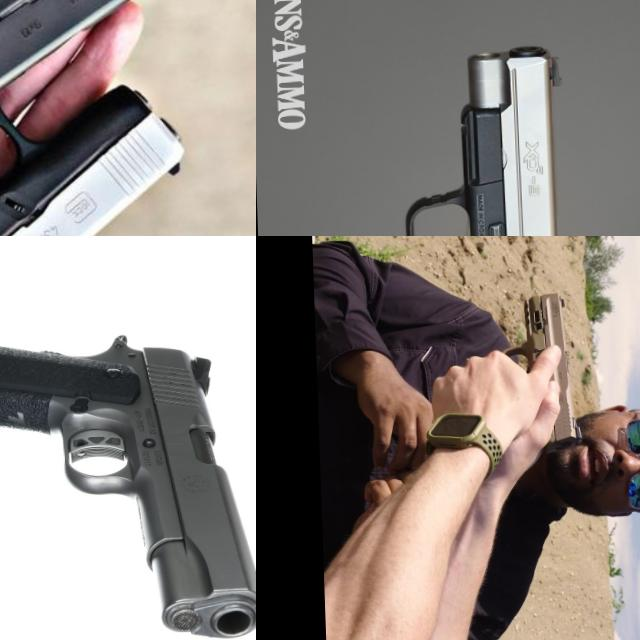handgun: (0, 321, 256, 640), (256, 38, 583, 236), (0, 0, 250, 186), (0, 79, 256, 236), (499, 288, 582, 458)
